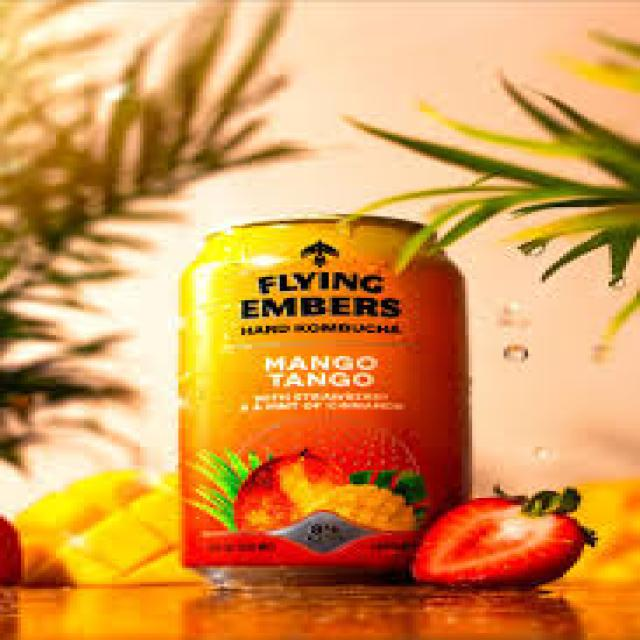Cans: (168, 205, 496, 593)
